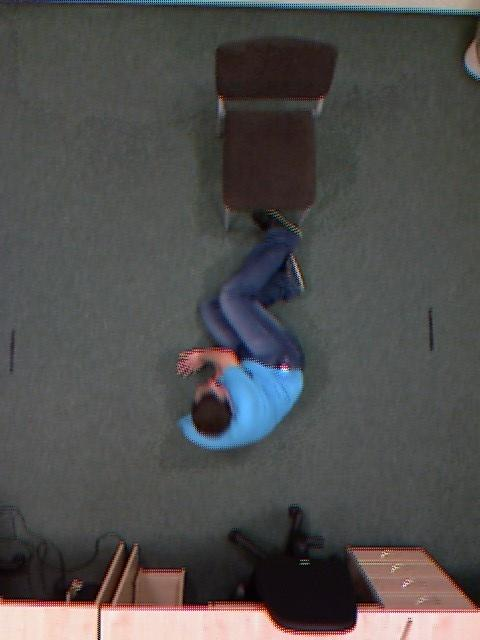fall: (149, 235, 344, 429)
